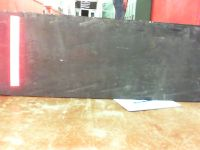switch: (9, 15, 19, 87)
